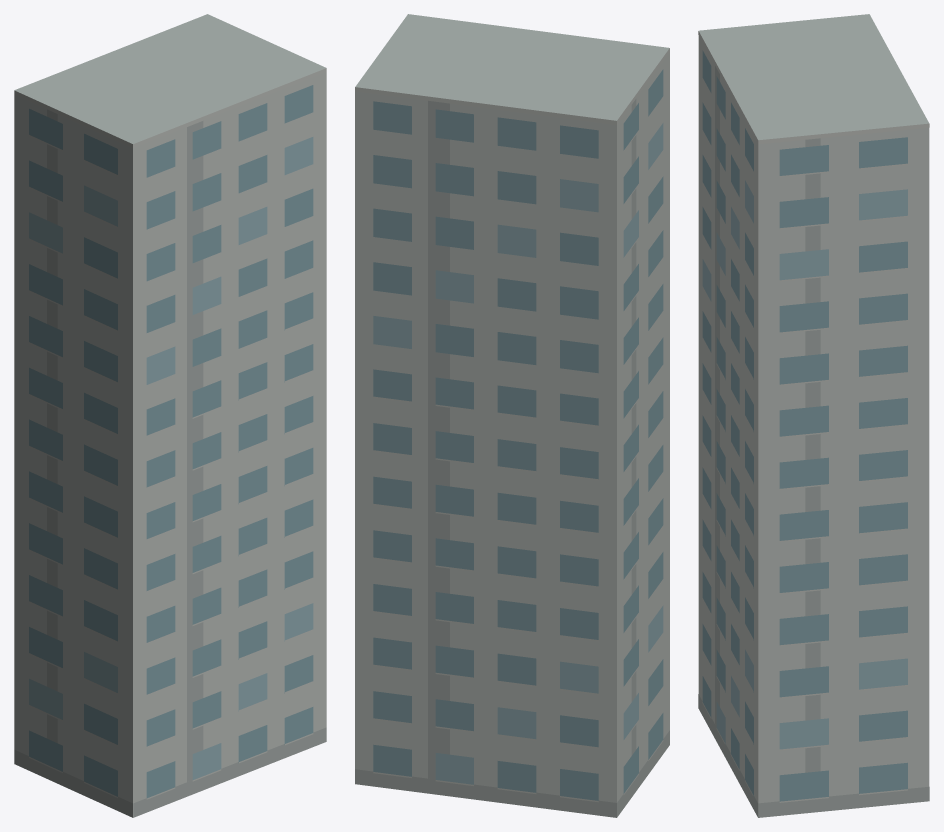
Rendered from residential-19d7a63e-f19e-49b9-9a5b-87a3c9e336d2.glb.
The picture shows the model from 3 angles, left to right: view 1: azimuth 30°, elevation 25°; view 2: azimuth 150°, elevation 25°; view 3: azimuth 270°, elevation 25°; orthographic projection. The views are drawn at different scales.
Parts seen in each view (by area): view 1: residential-19d7a63e-f19e-49b9-9a5b-87a3c9e336d2.tmp; view 2: residential-19d7a63e-f19e-49b9-9a5b-87a3c9e336d2.tmp; view 3: residential-19d7a63e-f19e-49b9-9a5b-87a3c9e336d2.tmp.
Part boxes in pixels (left/top/right/bottom): residential-19d7a63e-f19e-49b9-9a5b-87a3c9e336d2.tmp: left=14, top=14, right=326, bottom=817; residential-19d7a63e-f19e-49b9-9a5b-87a3c9e336d2.tmp: left=355, top=14, right=669, bottom=817; residential-19d7a63e-f19e-49b9-9a5b-87a3c9e336d2.tmp: left=698, top=14, right=929, bottom=817.
Size of the model in its own units: 15.99 by 40 by 12.37.
